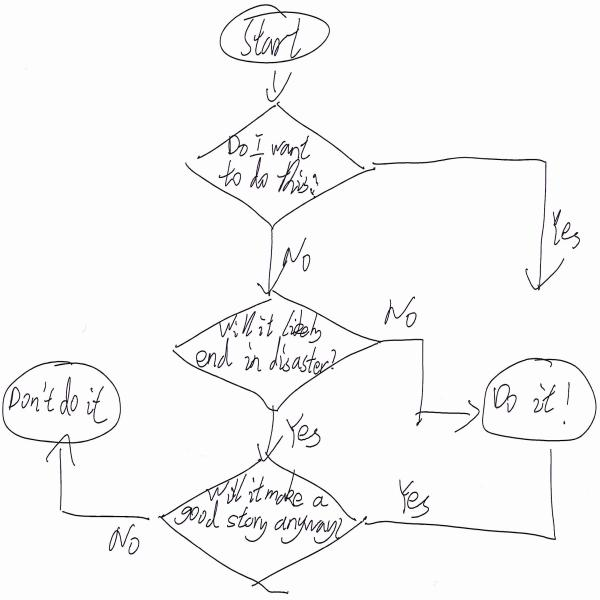arrow: (371, 151, 560, 298), (384, 330, 481, 431), (48, 434, 152, 524), (260, 234, 276, 304), (254, 406, 271, 461), (263, 64, 284, 103)
decision: (159, 455, 366, 588), (174, 289, 381, 413), (187, 100, 374, 229)
terminator: (1, 355, 124, 446), (482, 352, 597, 447), (214, 6, 336, 66)
text: (176, 475, 343, 548), (191, 306, 341, 380), (216, 120, 314, 194), (6, 368, 112, 427), (491, 378, 588, 427), (238, 7, 305, 68), (396, 476, 438, 526), (380, 289, 422, 334), (282, 409, 327, 451), (550, 202, 582, 259), (102, 520, 143, 556), (280, 234, 312, 280)
